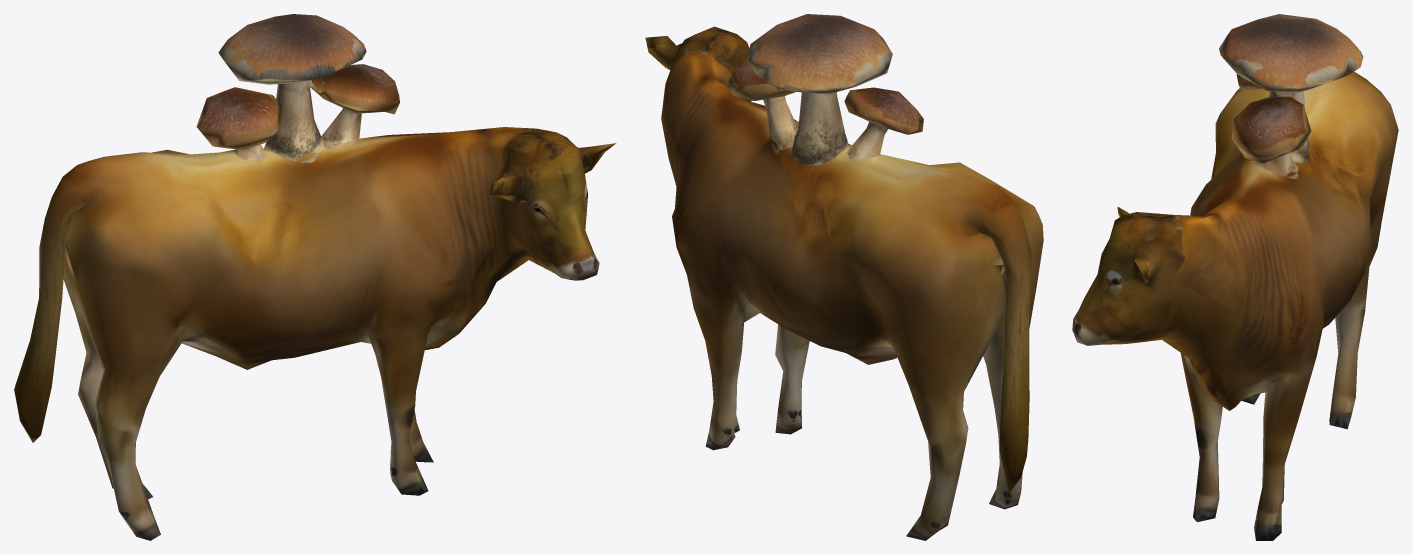
File: mooshroom_brown_single_1500.glb
3 views of the same model, side by side, from view 1: azimuth 30°, elevation 25°; view 2: azimuth 150°, elevation 25°; view 3: azimuth 270°, elevation 25° (orthographic).
Size of the model in its own units: 0.8806 by 0.785 by 0.5062.
Materials: 1 (1 with a texture image).
